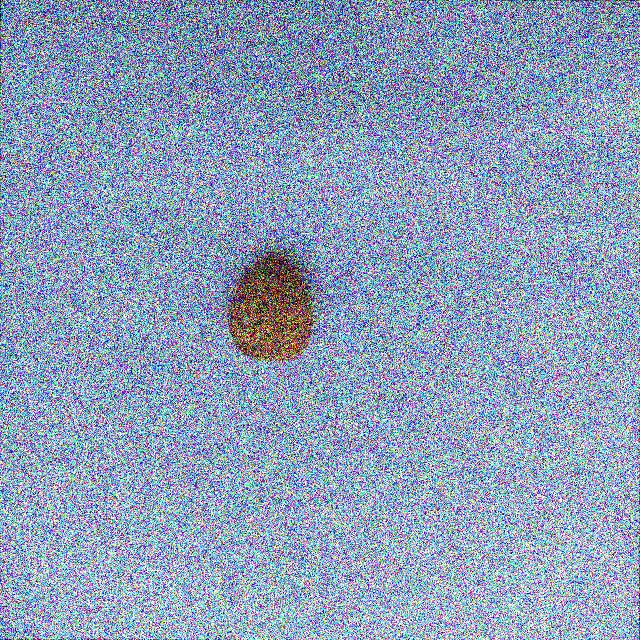grade1: (222, 247, 323, 368)
